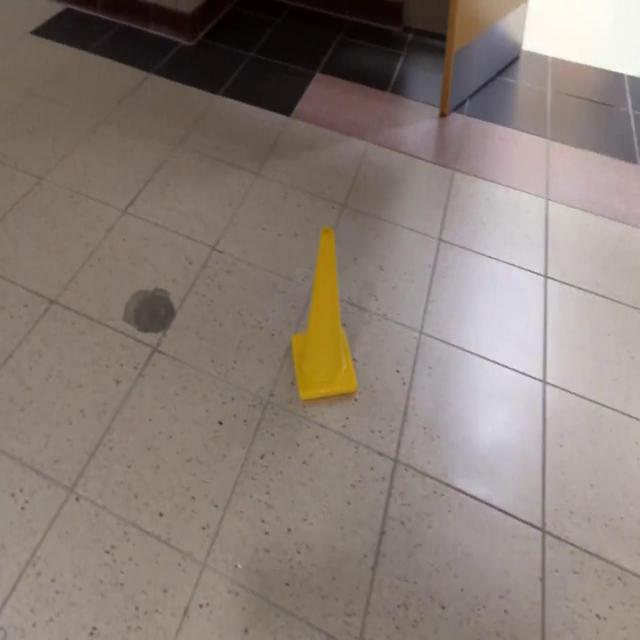frc_cone: (291, 225, 359, 403)
